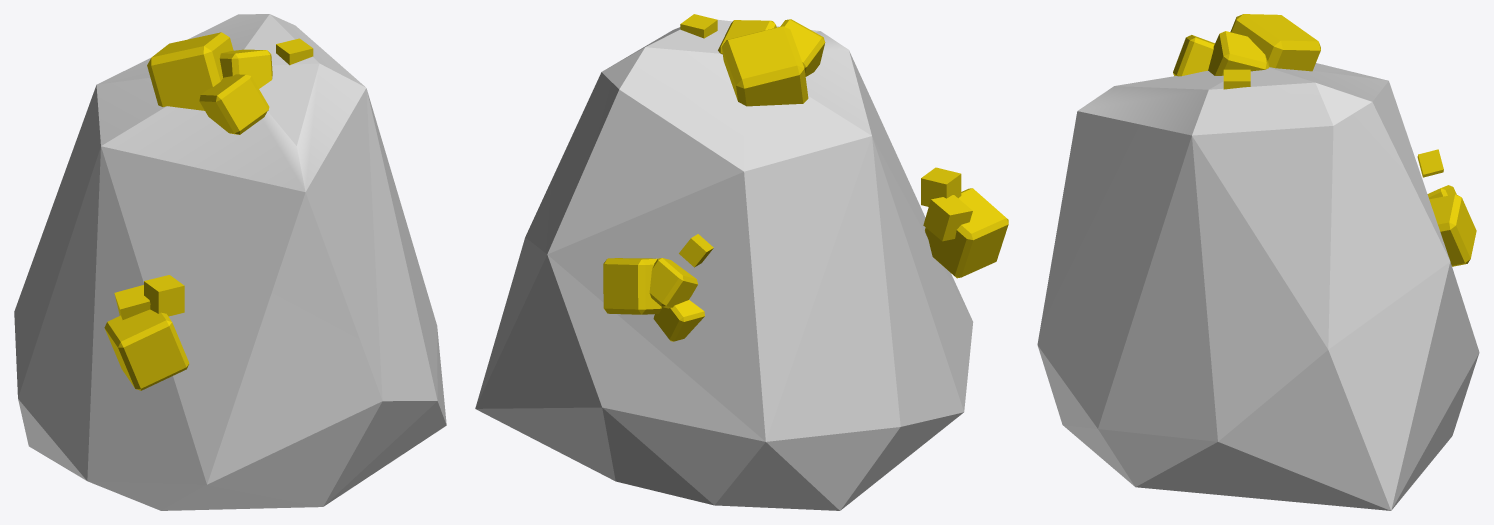
Rendered from MetalOre+.fbx.
The picture shows the model from 3 angles, left to right: view 1: azimuth 30°, elevation 25°; view 2: azimuth 150°, elevation 25°; view 3: azimuth 270°, elevation 25°; orthographic projection.
Visible parts, largest first — view 1: Ore; view 2: Ore; view 3: Ore.
Part boxes in pixels (x1=…): Ore: x1=14, y1=14, x2=446, y2=510; Ore: x1=475, y1=14, x2=1008, y2=510; Ore: x1=1037, y1=14, x2=1479, y2=510.
Size of the model in its own units: 160 by 164 by 158.
